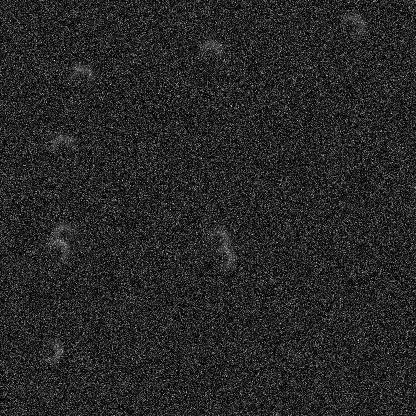Janus: (196, 38, 226, 68), (42, 235, 72, 265), (49, 220, 79, 250), (67, 63, 97, 93), (35, 335, 65, 365), (47, 131, 77, 161), (206, 242, 236, 272), (202, 225, 232, 255), (337, 11, 367, 41)
